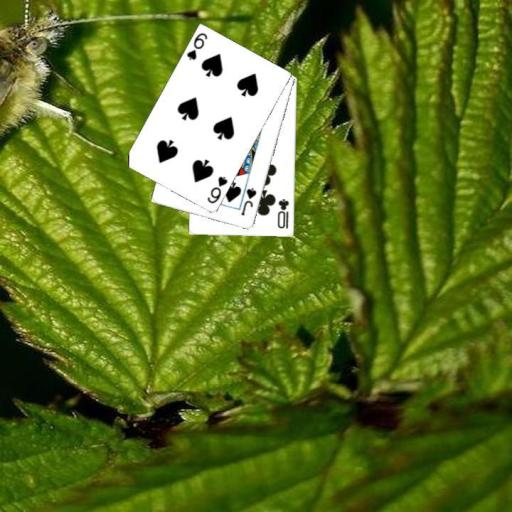10C: (274, 196, 291, 231)
6S: (204, 174, 229, 206), (184, 30, 209, 62)
JS: (238, 185, 258, 217)
